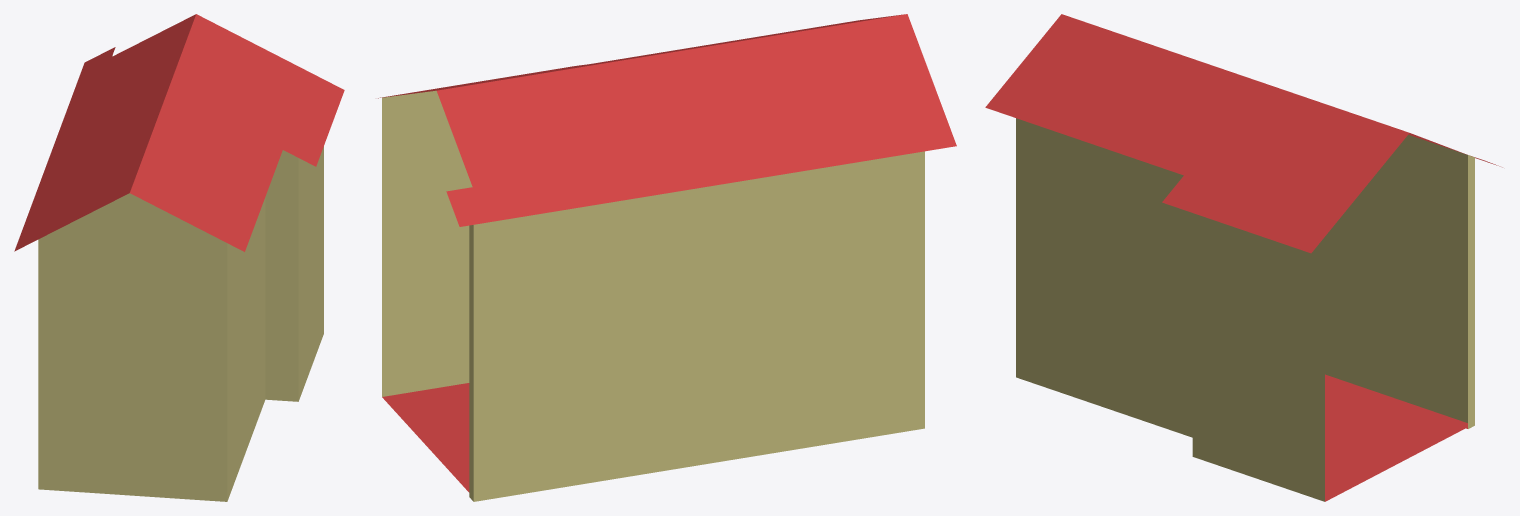
3 views of the same model, side by side, from view 1: azimuth 30°, elevation 25°; view 2: azimuth 150°, elevation 25°; view 3: azimuth 270°, elevation 25° (orthographic). The views are drawn at different scales.
Bounding box in the file's own units: 11.35 × 11.87 × 8.17.
